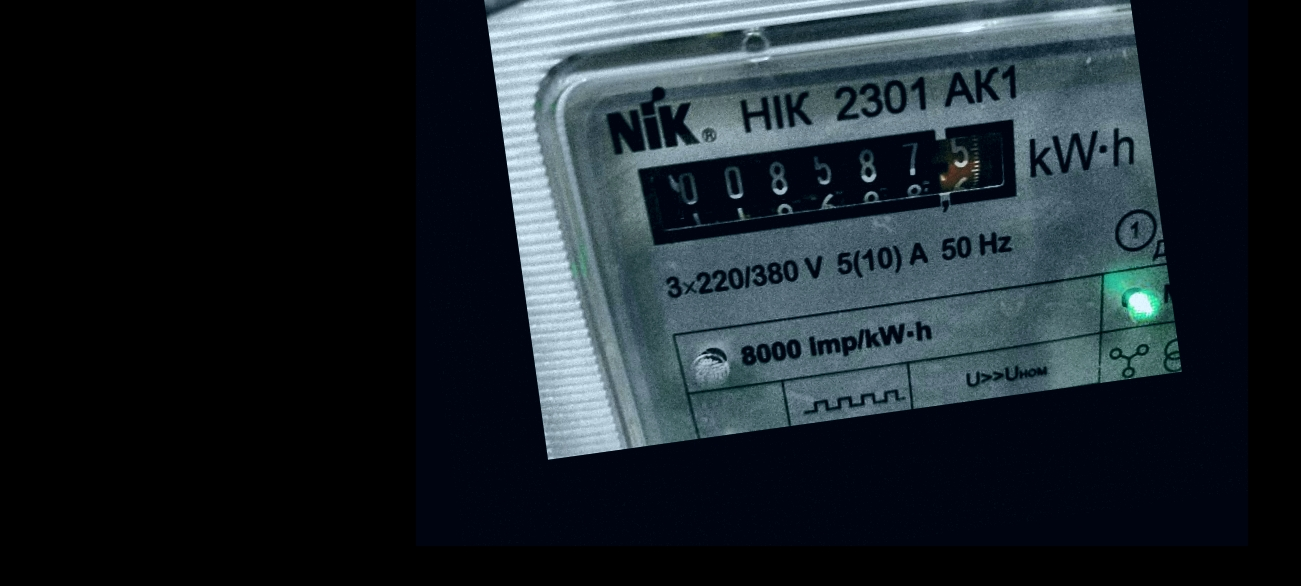0: (719, 159, 748, 202)
1: (673, 165, 703, 209)
5: (946, 128, 975, 171), (809, 148, 837, 188)
7: (897, 136, 926, 180)
8: (763, 155, 793, 199), (854, 143, 880, 186)
screen: (615, 94, 1046, 269)
